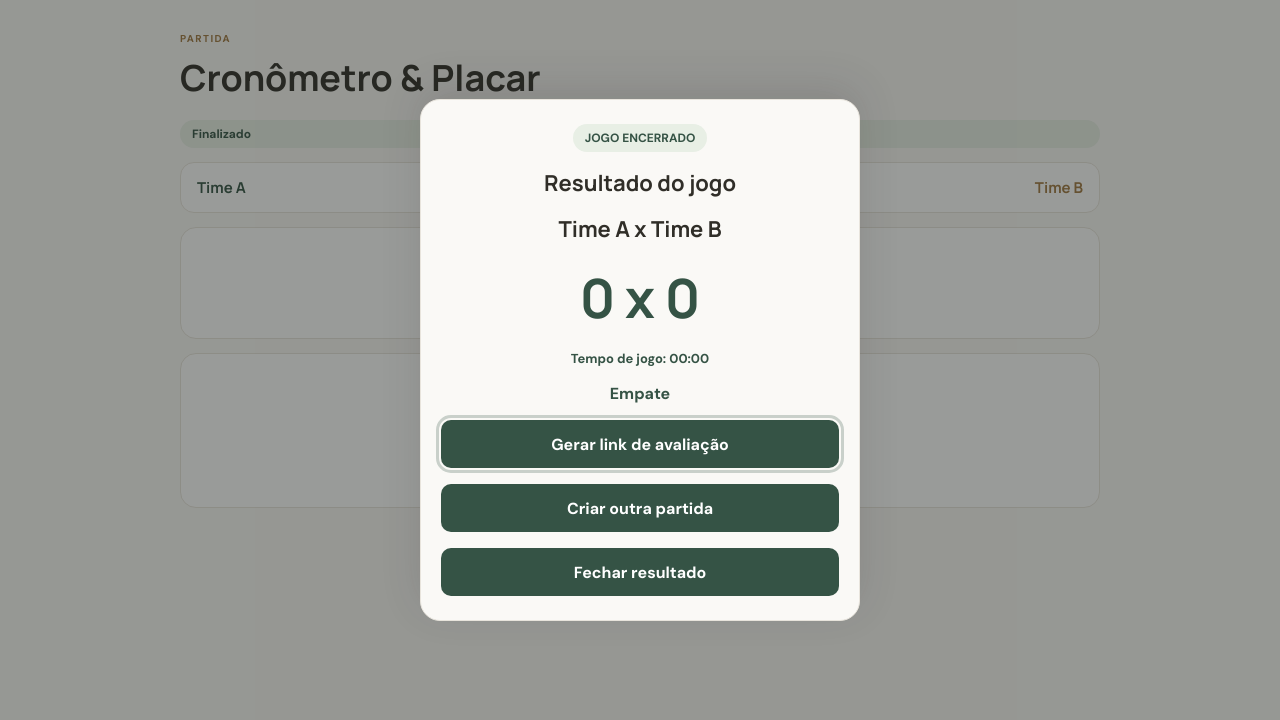
Test: Erros dentro do resultado › exibe falha da área de transferência no próprio modal
This screenshot has width=1280, height=720.
Click the button "Gerar link de avaliação". click: (640, 444)
box: x1=441 y1=420 x2=839 y2=468
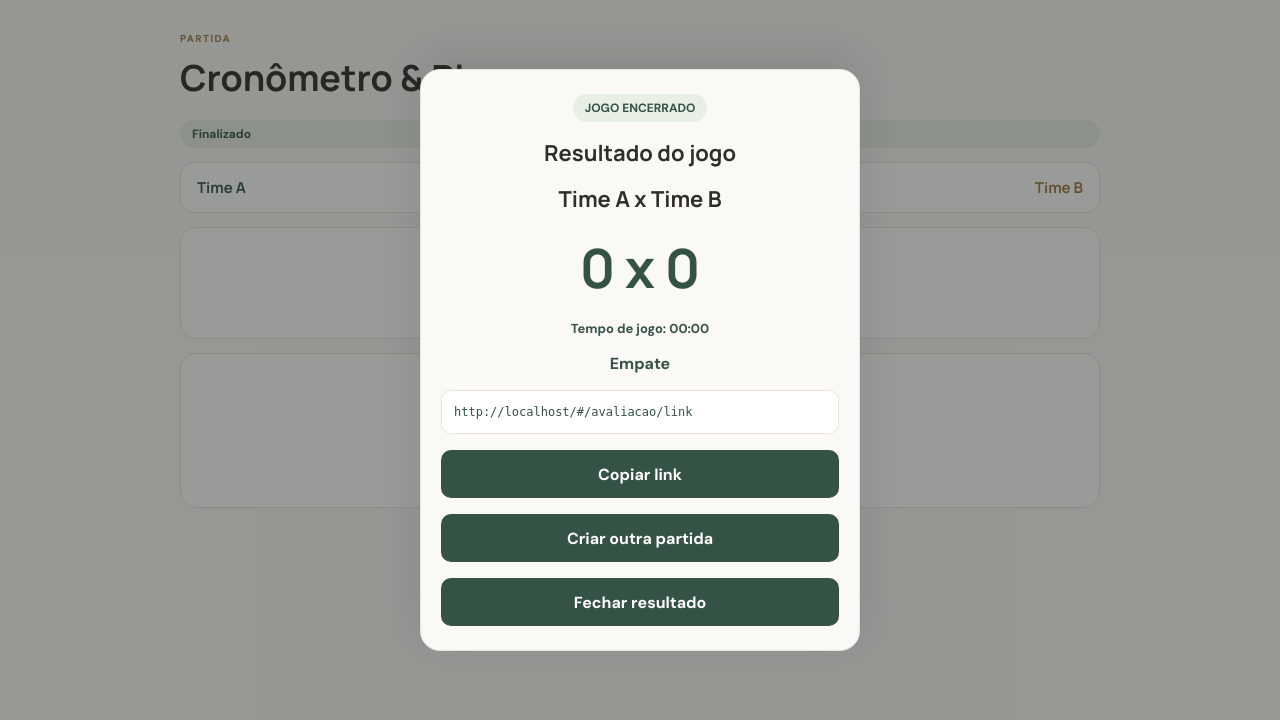
expect the button "Copiar link" is shown: met
Click the button "Copiar link". click: (640, 474)
box: x1=441 y1=450 x2=839 y2=498
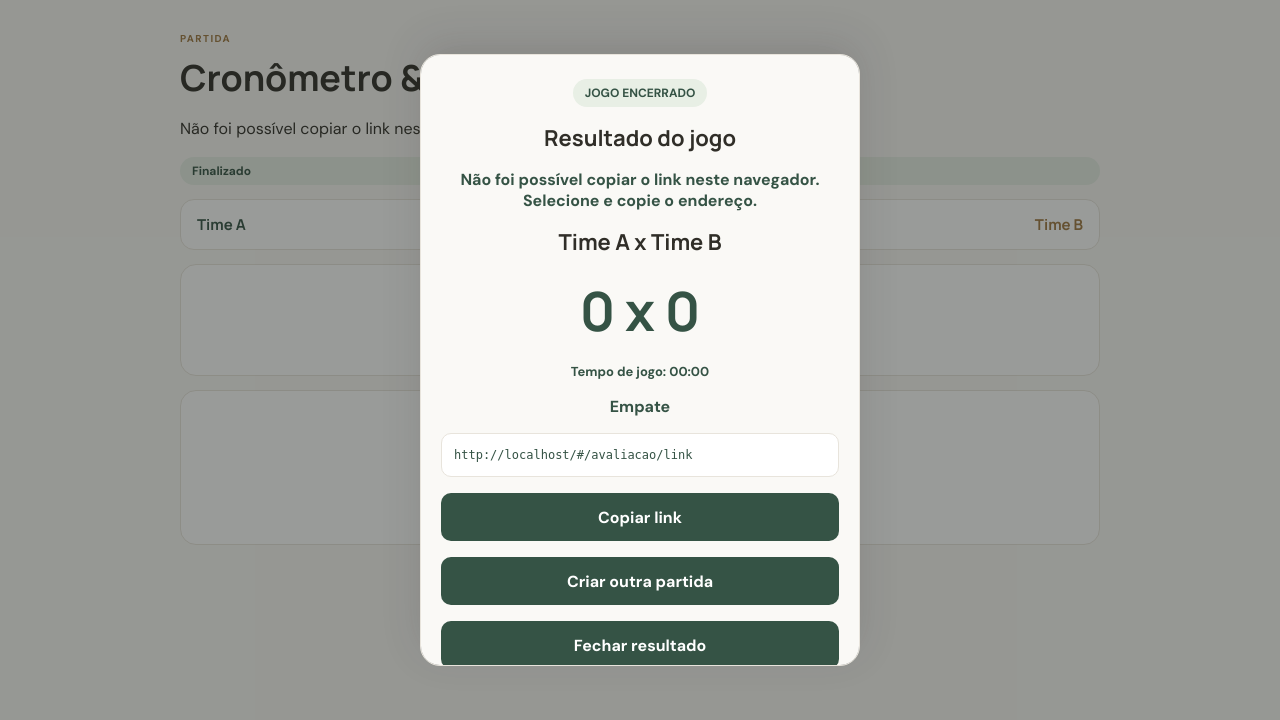
expect the message "Não foi possível copiar o link neste navegador. Selecione e copie o endereço." below "Resultado do jogo" is shown: met, box x1=460 y1=169 x2=820 y2=211
